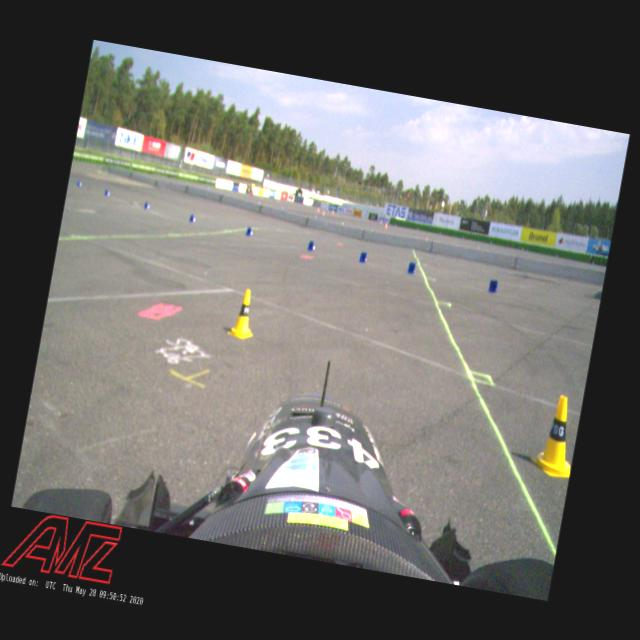blue_cone: (358, 250, 368, 264), (306, 240, 316, 252), (142, 200, 152, 210), (188, 213, 197, 223), (245, 226, 254, 236), (103, 188, 111, 196), (76, 180, 82, 187)
yellow_cone: (528, 390, 582, 480), (226, 286, 260, 340)
